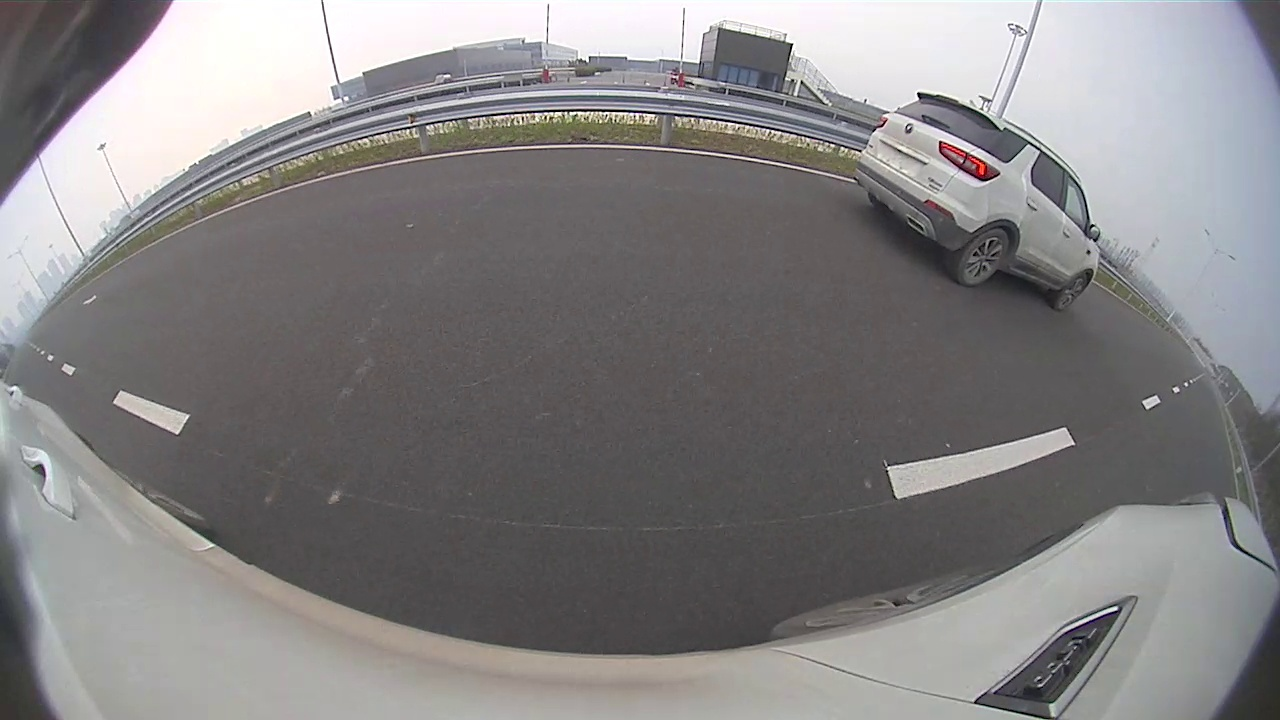car: (852, 91, 1101, 313)
front: (1054, 274, 1091, 314)
rear: (957, 227, 1011, 289)
